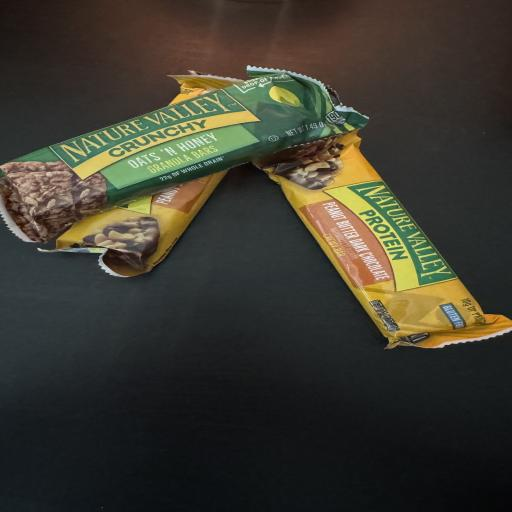granola: (0, 69, 347, 242), (254, 127, 511, 347), (39, 171, 226, 276)
